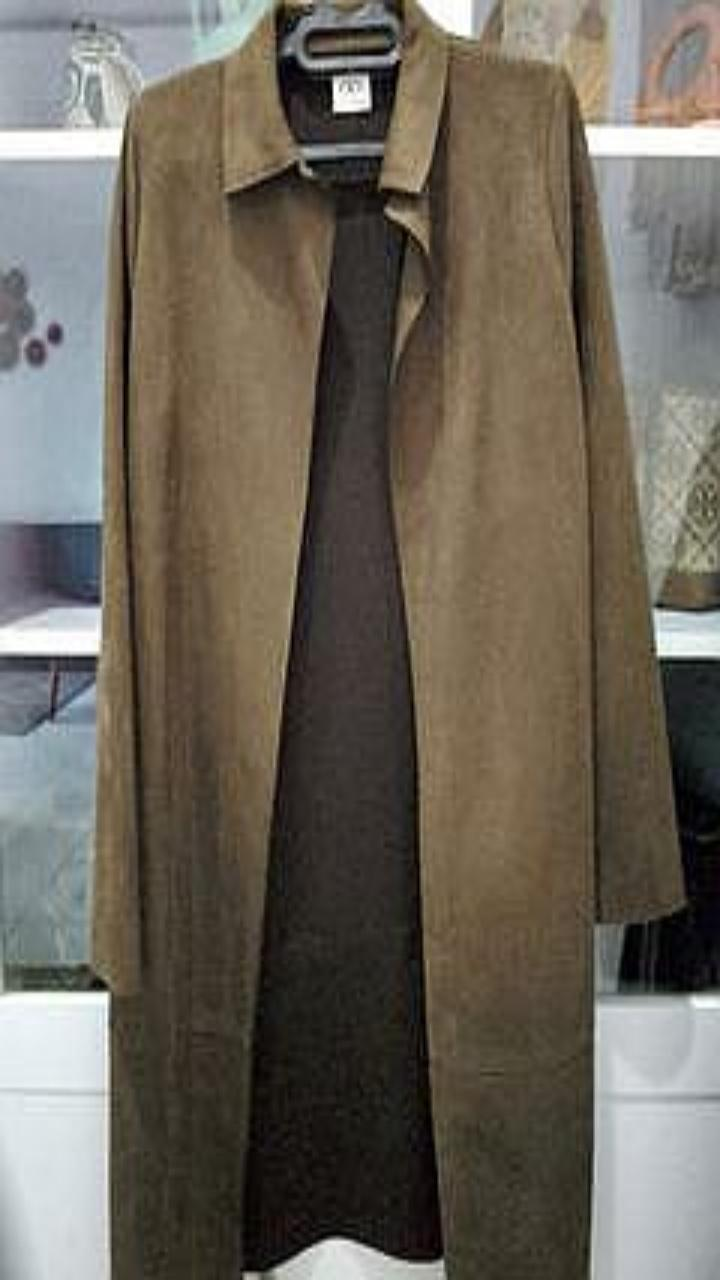Dresses: (245, 182, 441, 1270)
